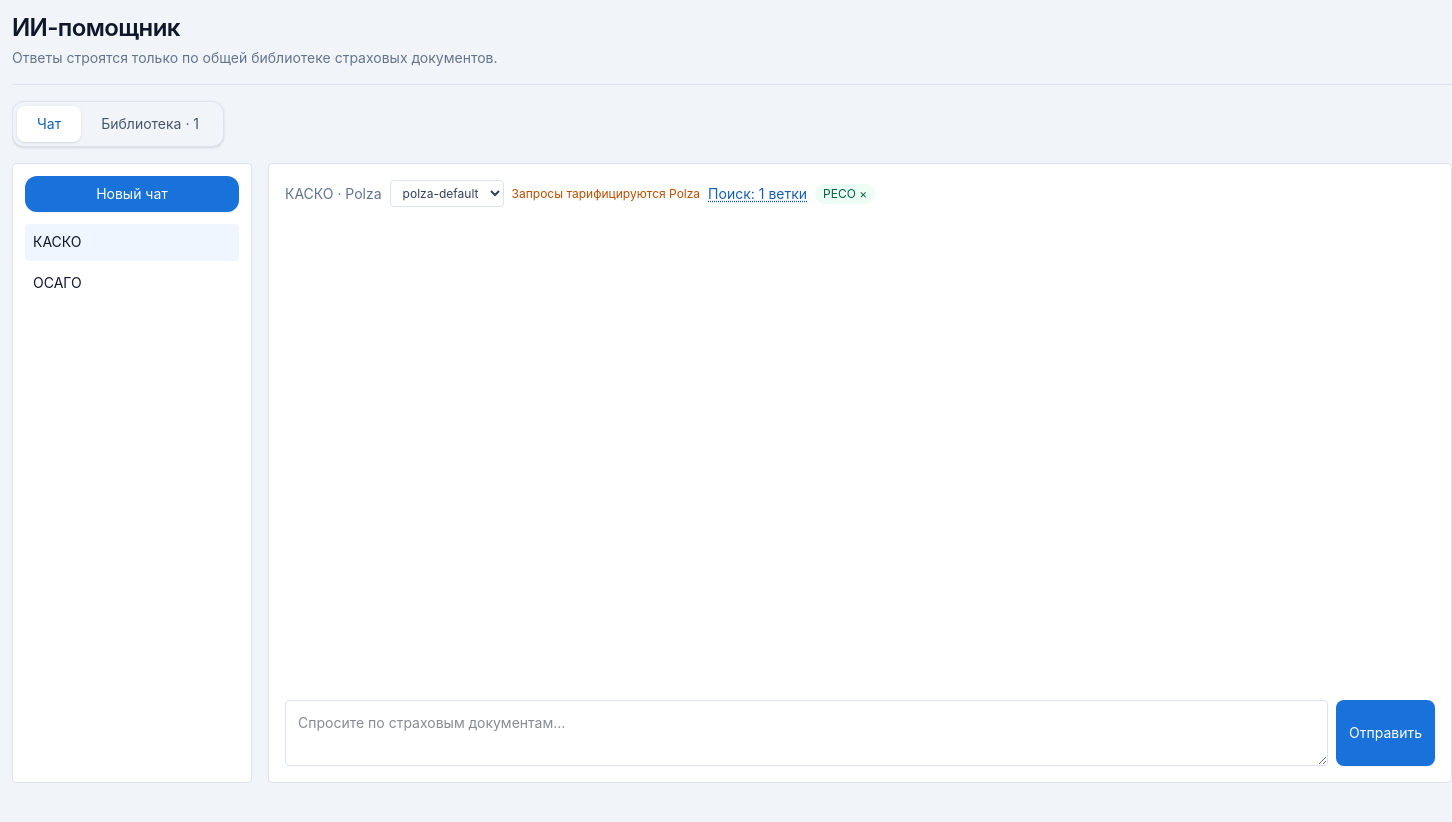
AiAssistantView › validates an incomplete target branch and reports successful distribution
Click the button "Библиотека · 1": (150, 124) [81,106,219,142]
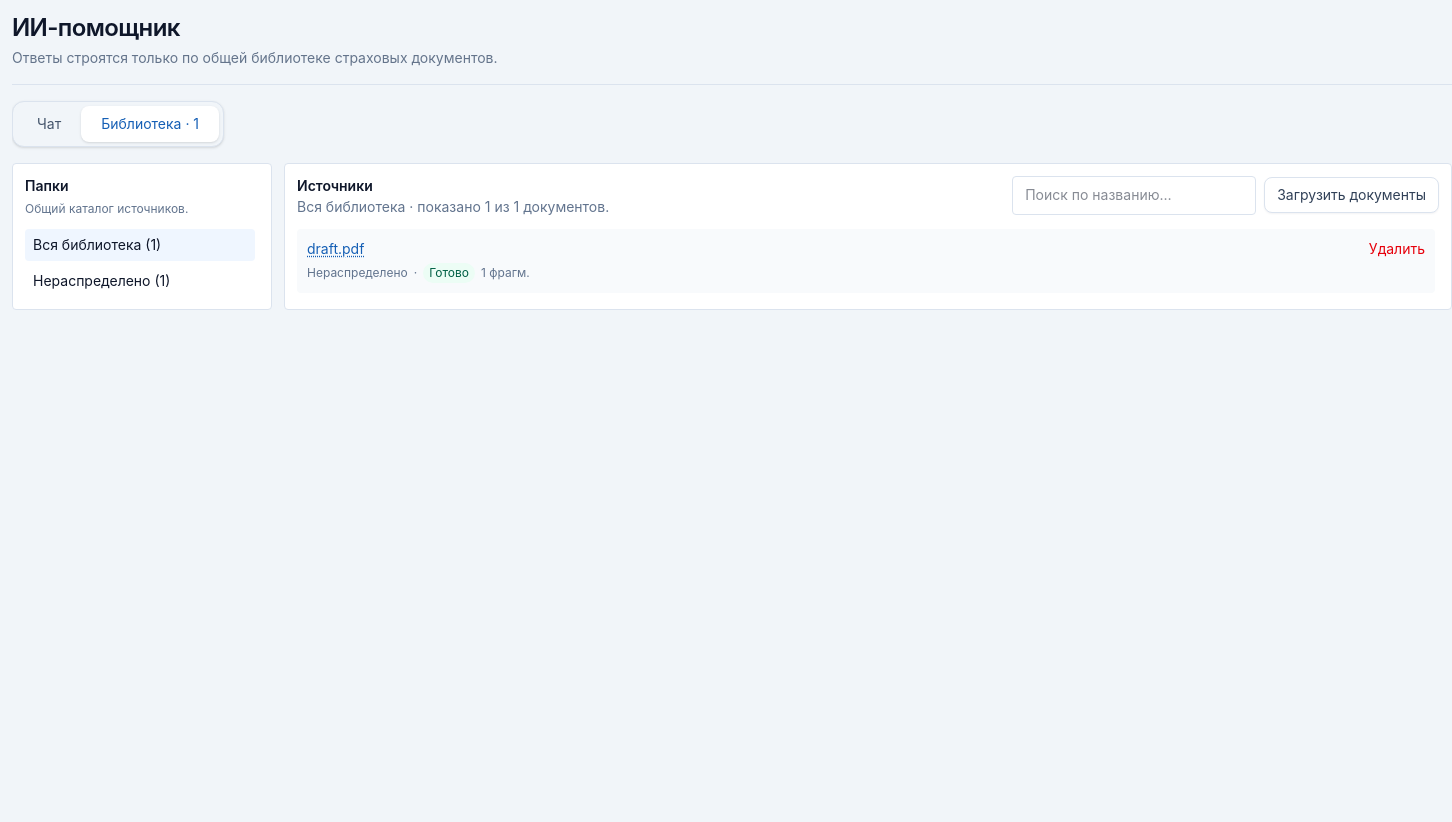
Click the button "Нераспределено (1)": (140, 281) [25,265,255,297]
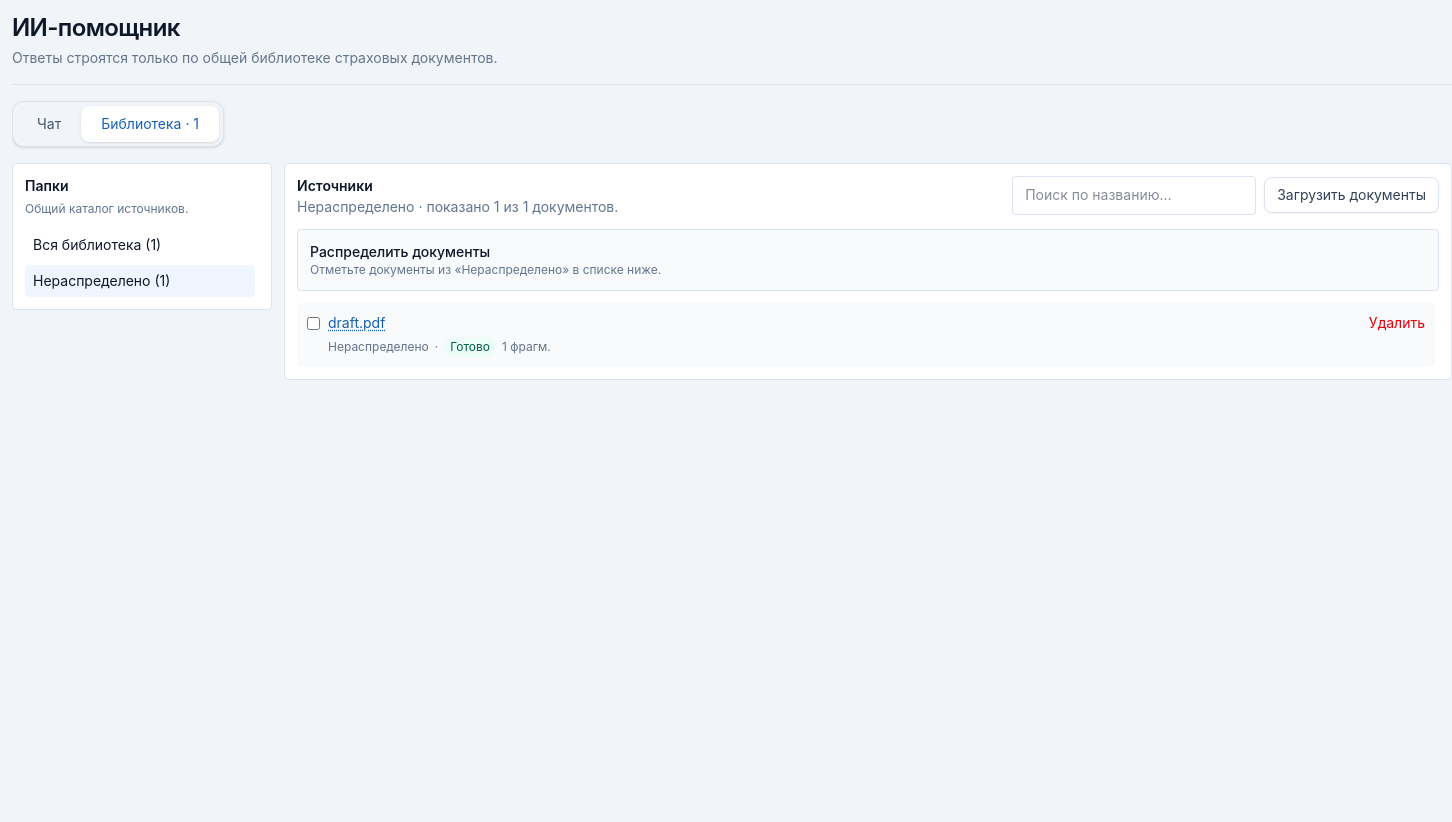
Click the checkbox named "Выбрать draft.pdf": (314, 323) [307,317,320,330]
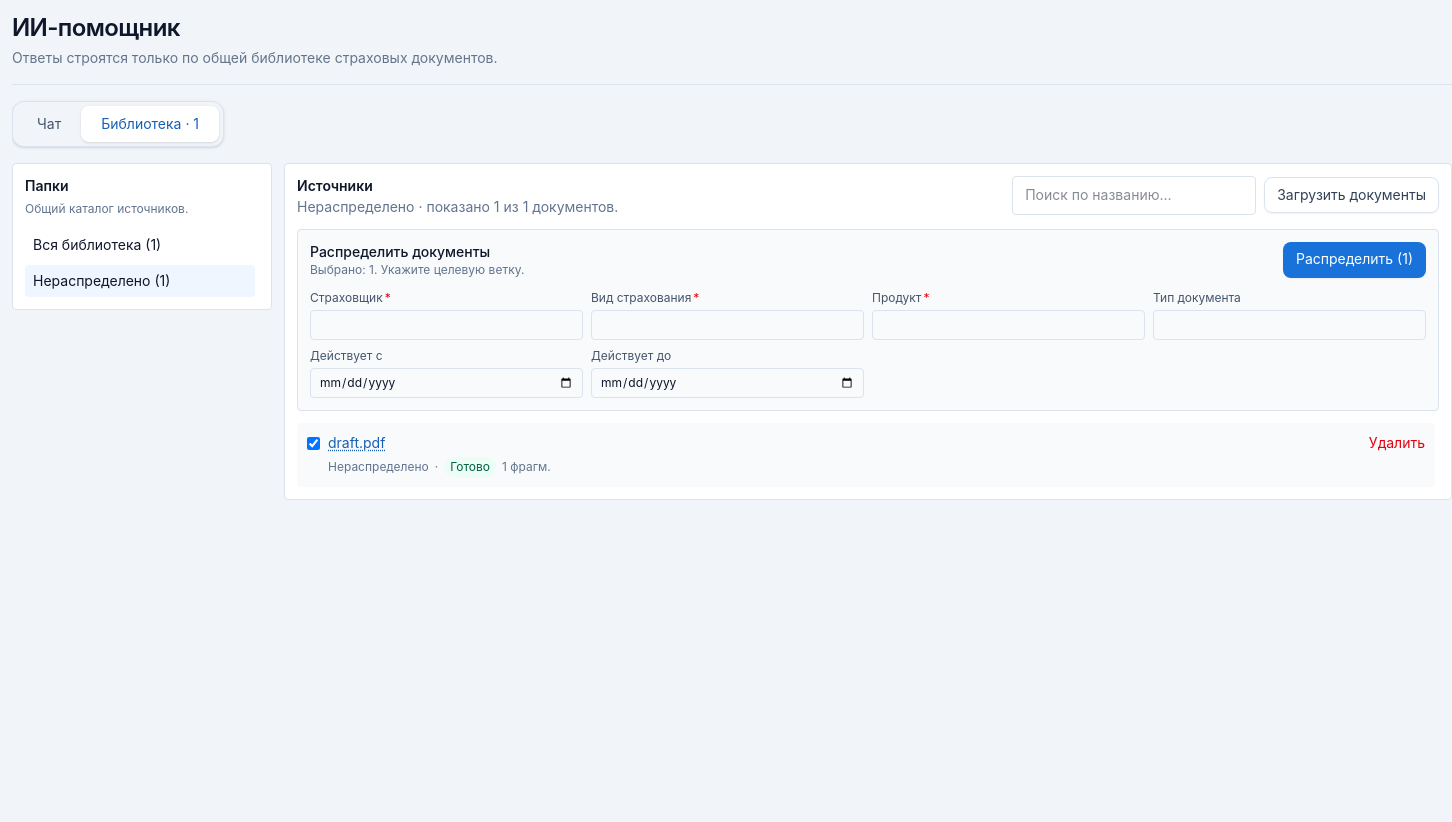
Click the button "Распределить (1)": (1354, 260) [1283,242,1426,278]
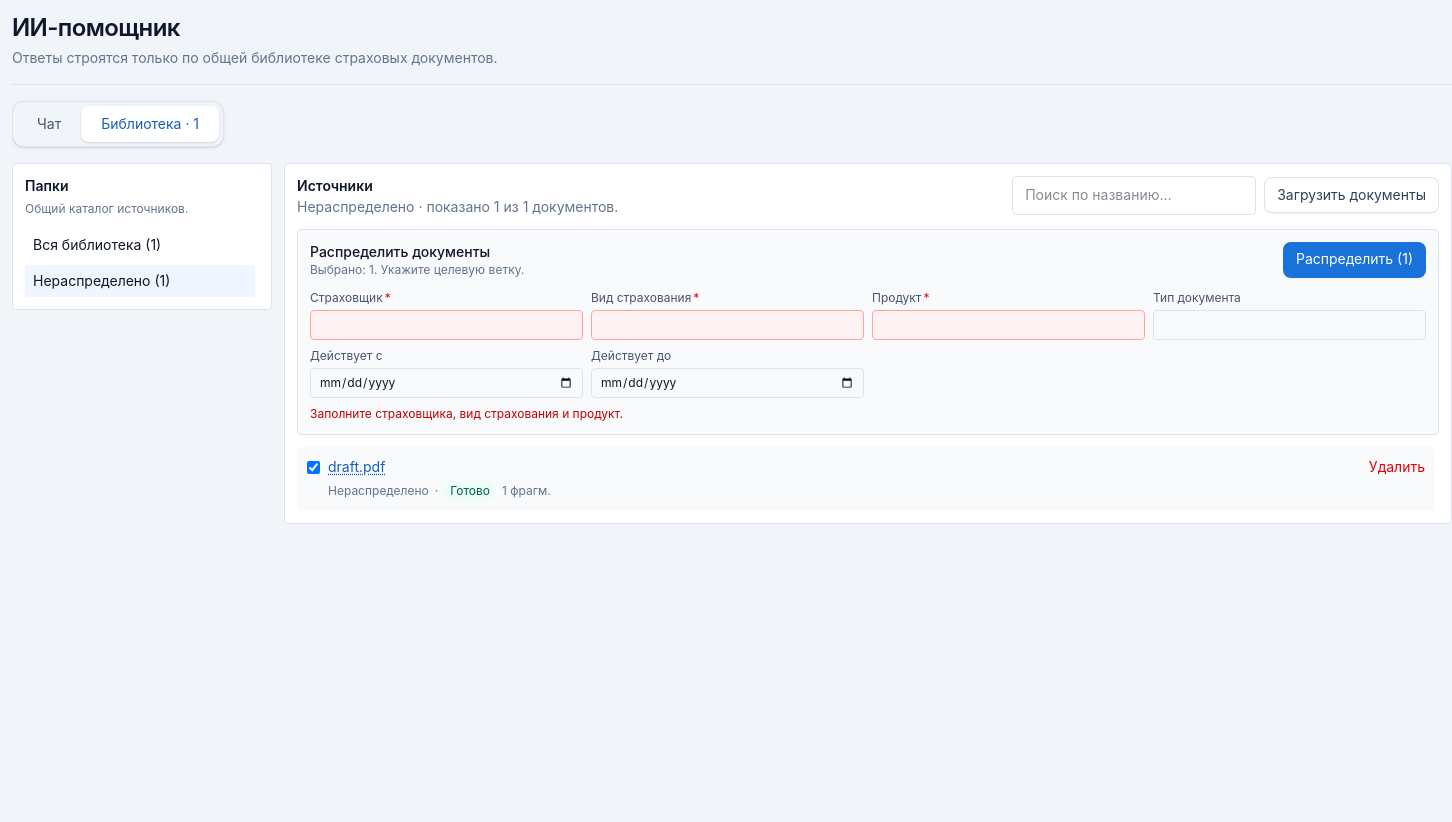
Expected: the text "Заполните страховщика, вид страхования и продукт." is shown, [310,406,623,421]
In the field labelled "Страховщик*": (446, 325) [310,310,583,340], type "РЕСО"
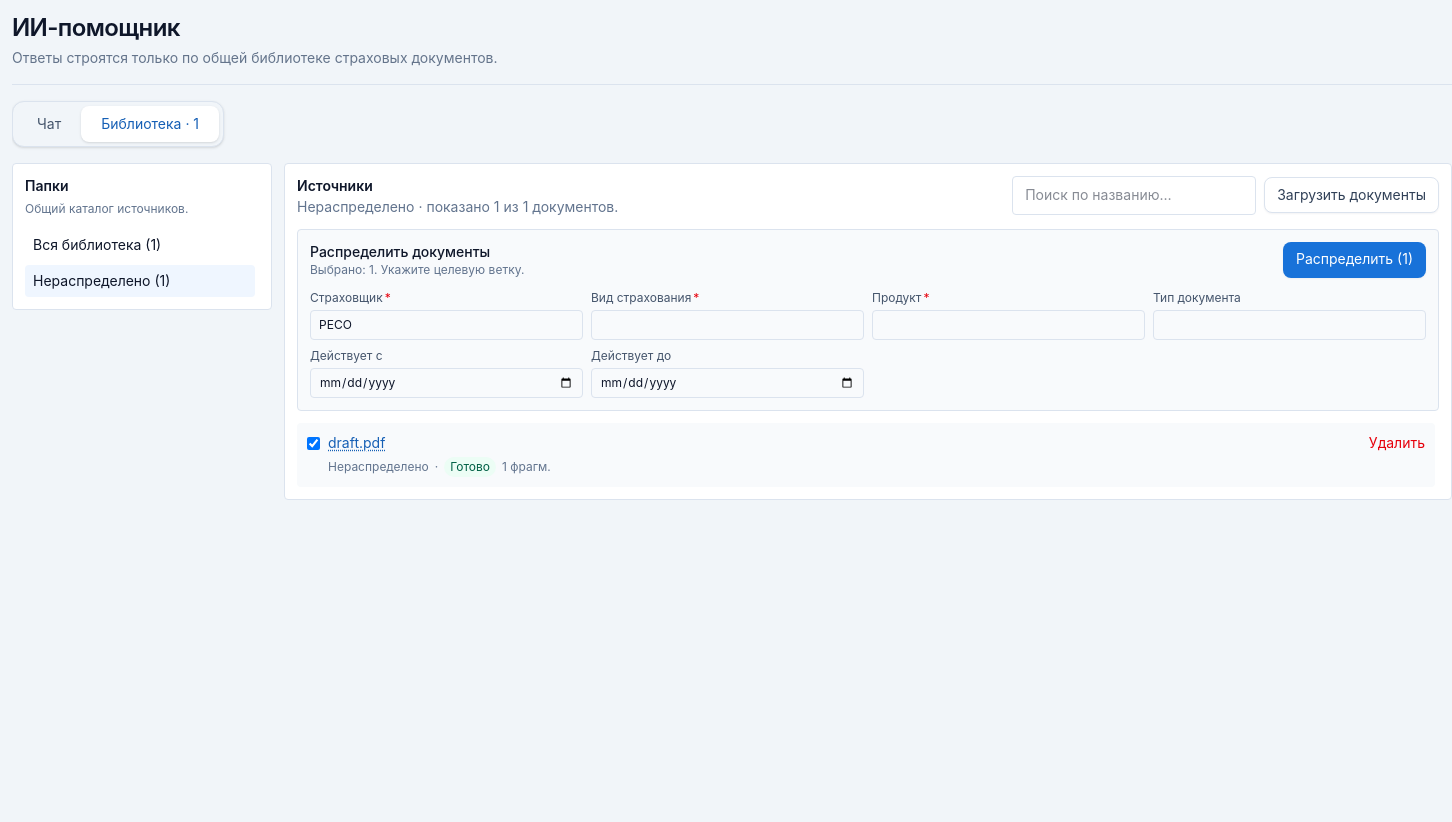
In the field labelled "Вид страхования*": (728, 325) [591,310,864,340], type "КАСКО"
In the field labelled "Продукт*": (1008, 325) [872,310,1145,340], type "РЕСОавто"
Click the button "Распределить (1)": (1354, 260) [1283,242,1426,278]
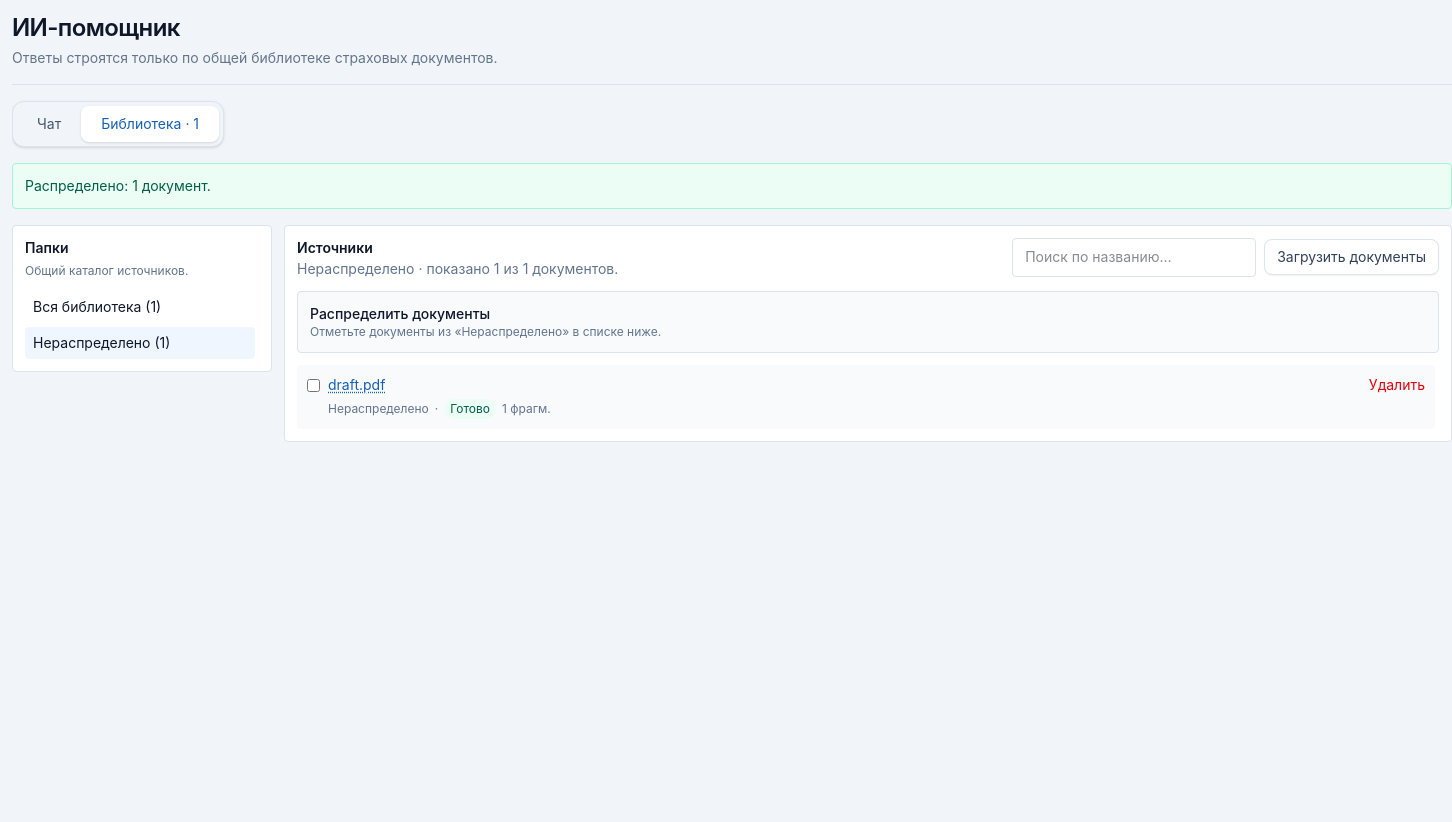
Expected: the text "Распределено: 1 документ." is shown, [12,163,1451,209]
